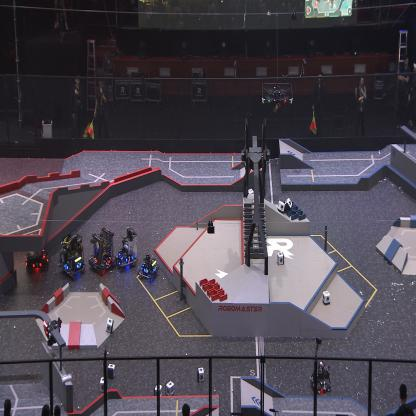car: (88, 226, 117, 276), (59, 230, 85, 278), (24, 227, 50, 273), (114, 228, 138, 273), (309, 361, 332, 393), (138, 250, 161, 282)
